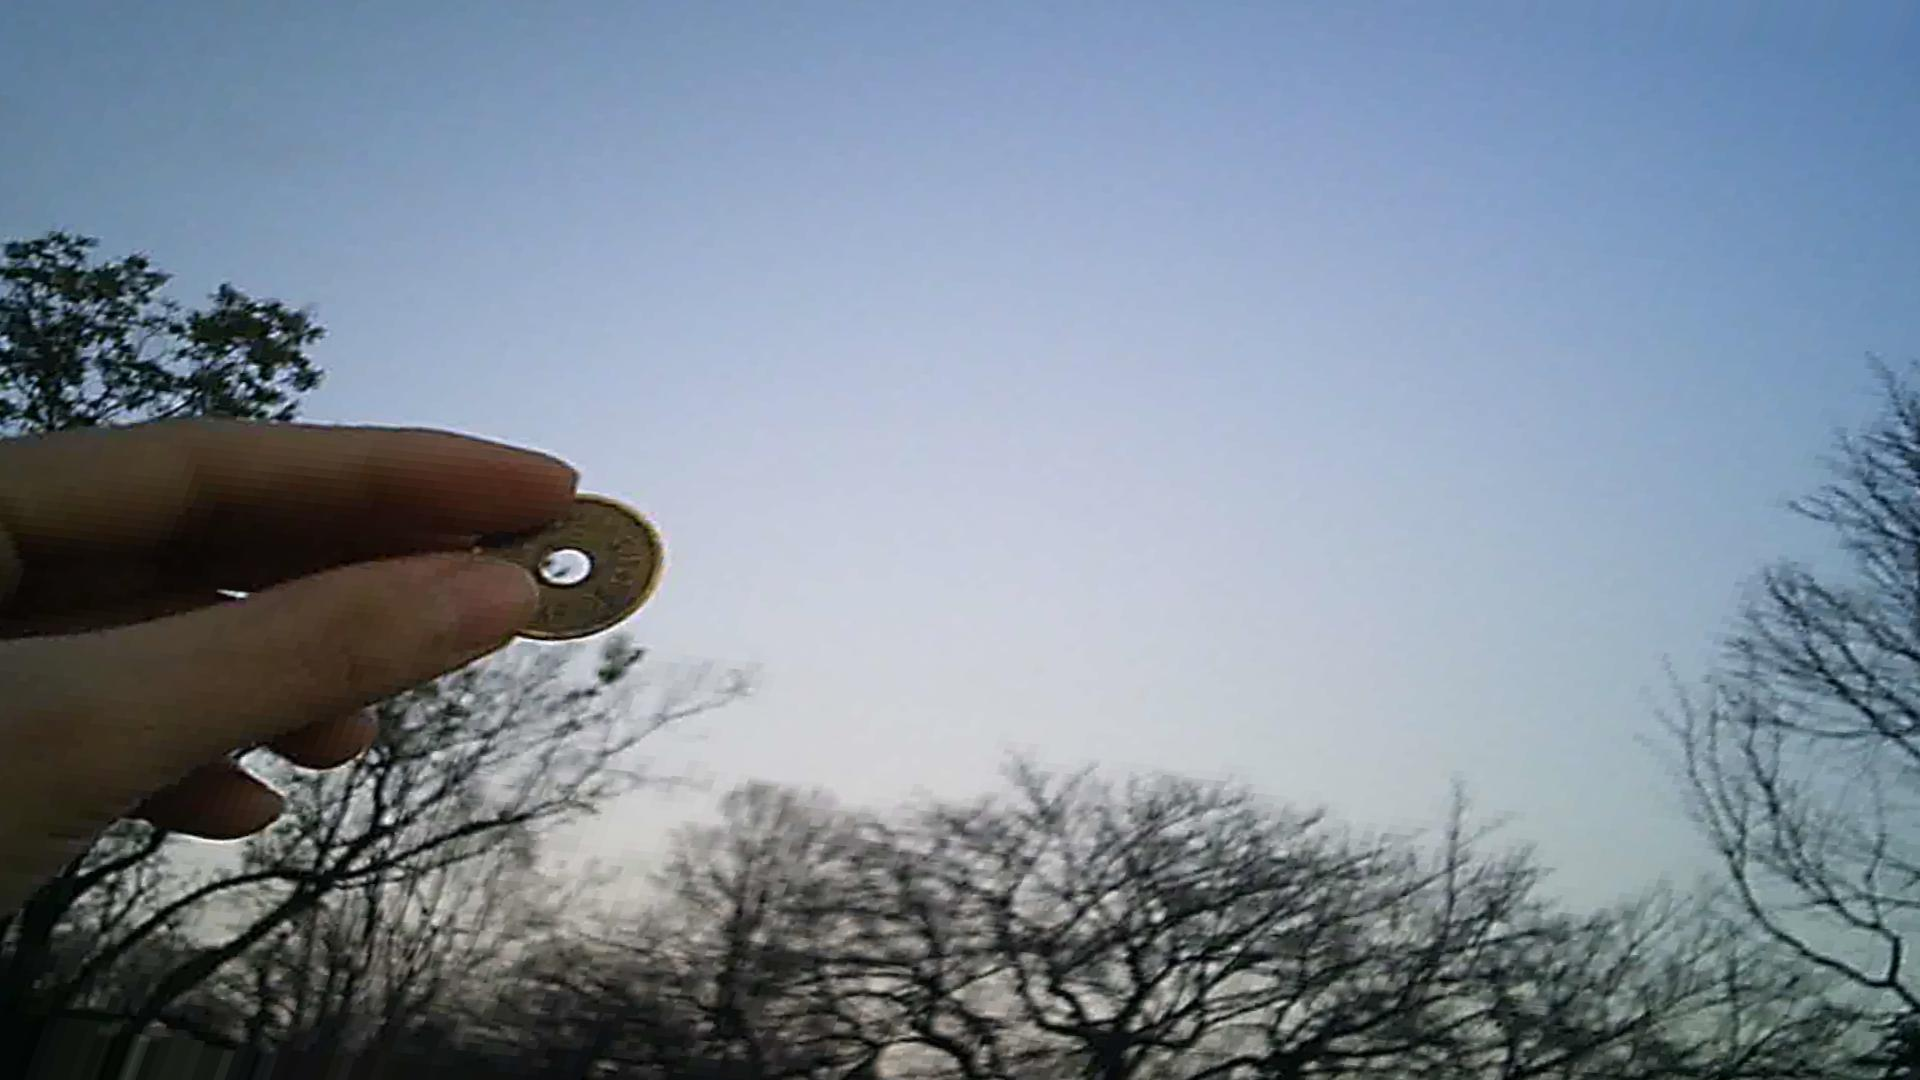5 Yen: (442, 469, 678, 644)
